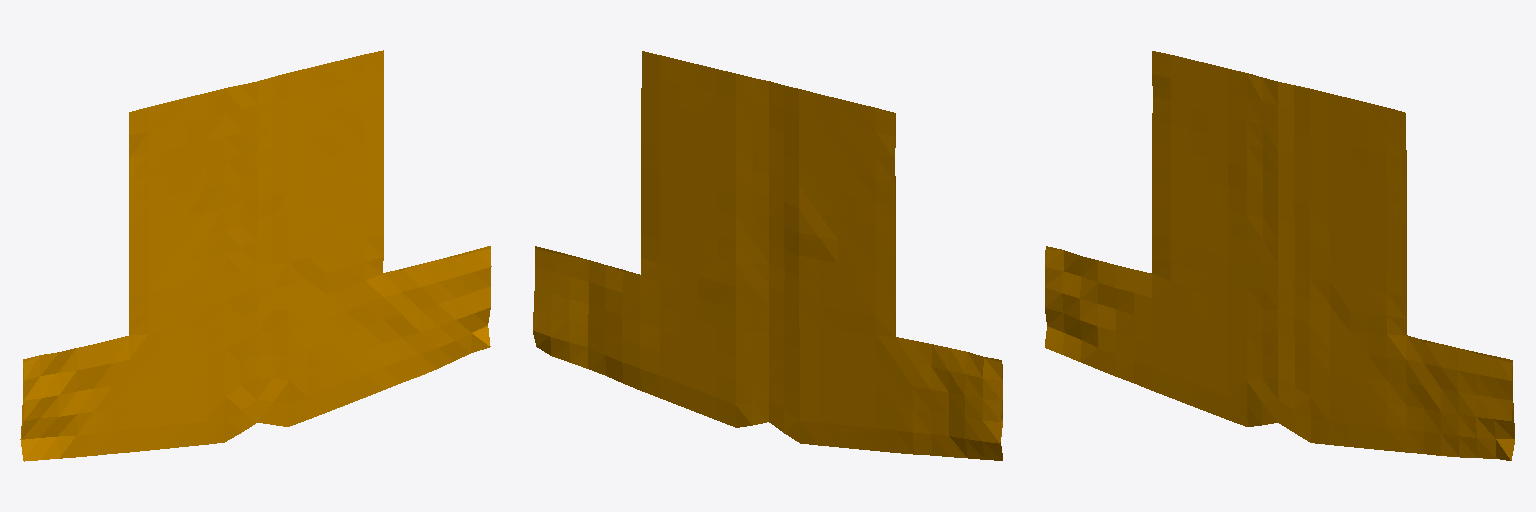
The robot description file, URDF, robot "garment":
<?xml version="1.0"?>
<robot name="garment">
    <link name="garment">
        <visual>
            <geometry>
                <mesh filename="../mesh/garment.obj"/>
            </geometry>
        </visual>
        <collision>
            <geometry>
                <mesh filename="../mesh/garment.obj"/>
            </geometry>
            <sdf resolution="256"/>
        </collision>
    </link>
</robot>

--- Render facts (derived) ---
The picture shows the robot from 3 angles, left to right: view 1: azimuth 30°, elevation 25°; view 2: azimuth 150°, elevation 25°; view 3: azimuth 330°, elevation 25°; orthographic projection.
Model garment with 1 links and 0 joints (none), rooted at garment, posed every joint at zero.
Links seen in each view (by area): view 1: garment; view 2: garment; view 3: garment.
Boxes of the visible links, left/top/right/bottom form: garment: left=20, top=50, right=491, bottom=461; garment: left=533, top=51, right=1002, bottom=460; garment: left=1045, top=51, right=1514, bottom=460.
Size in the robot's own frame: 0.44 by 0.0069 by 0.318 metres.
1 mesh visuals loaded from 1 distinct referenced files (1 OBJ).